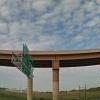Bridge: (4, 42, 94, 75)
